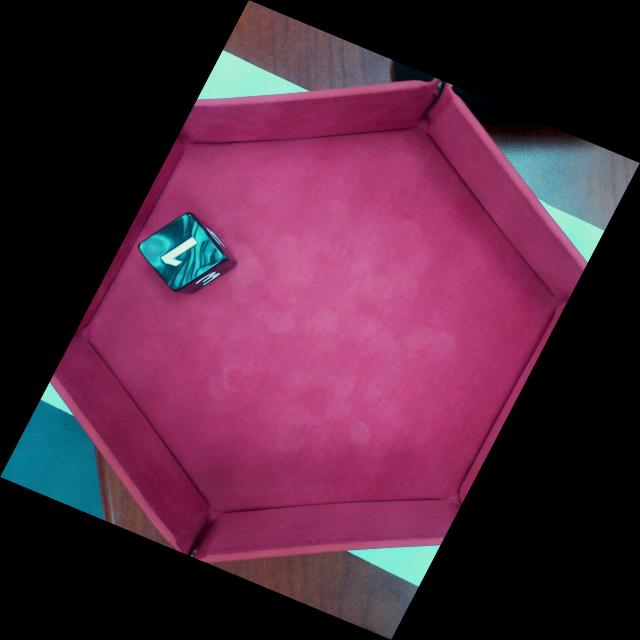dice: (145, 219, 226, 289)
